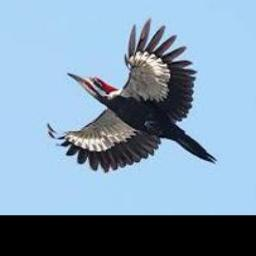Woodpecker: (47, 17, 217, 172)
